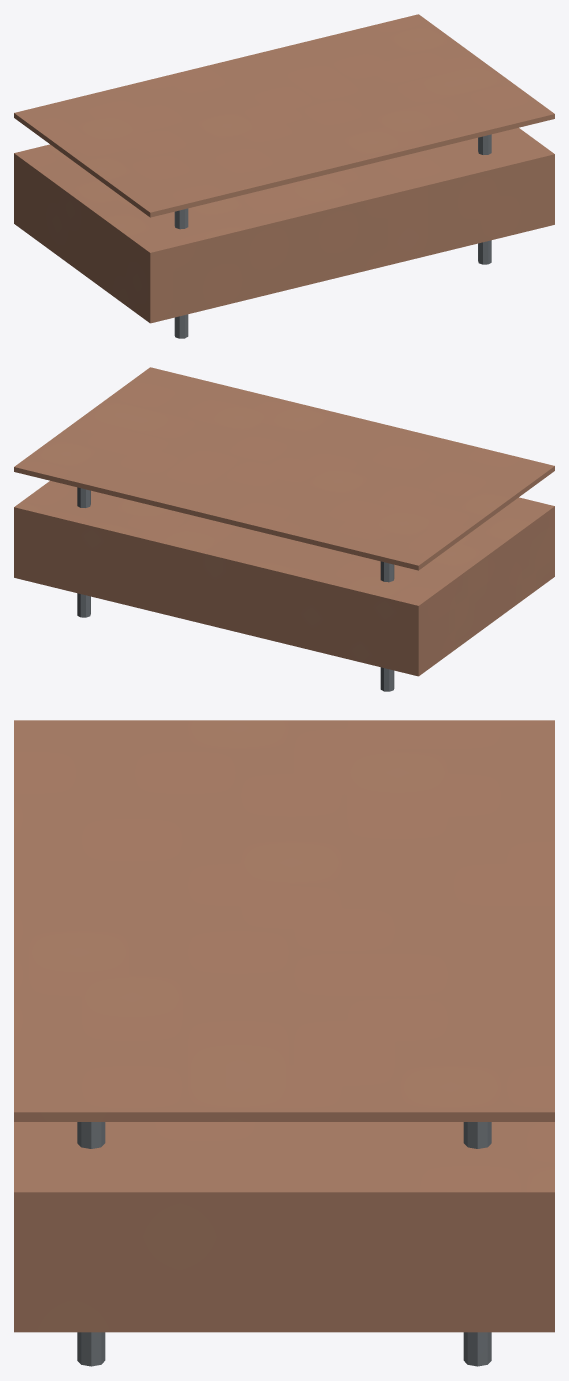
Rendered from Table_06_01.fbx.
3 renders of one model, top to bottom at view 1: azimuth 30°, elevation 25°; view 2: azimuth 150°, elevation 25°; view 3: azimuth 270°, elevation 25°, orthographic. The views are drawn at different scales.
Visible parts, largest first — view 1: Table_06_01; view 2: Table_06_01; view 3: Table_06_01.
Boxes of the visible parts, x1,y1,x2,y2 form: Table_06_01: (14,14,554,338); Table_06_01: (14,367,554,691); Table_06_01: (14,720,554,1366).
Bounding box in the file's own units: 1.77 × 0.6259 × 1.03.
